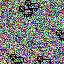sheep: (18, 6, 34, 17), (25, 0, 39, 12), (10, 54, 24, 64), (37, 56, 51, 64), (56, 30, 64, 40)
